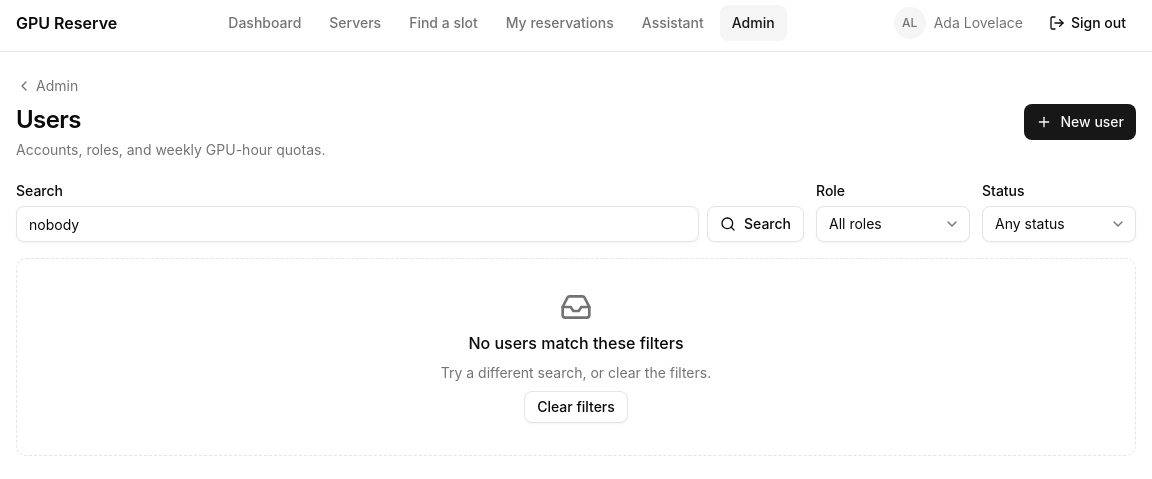
Test: user list › clears filters from the empty state
Expected: the text "No users match these filters" is shown, [468,331,684,355]
Expected: the search field labelled "Search" holds "nobody", [16,206,699,242]
Click the button "Clear filters" at (576, 407), box [524,391,628,423]
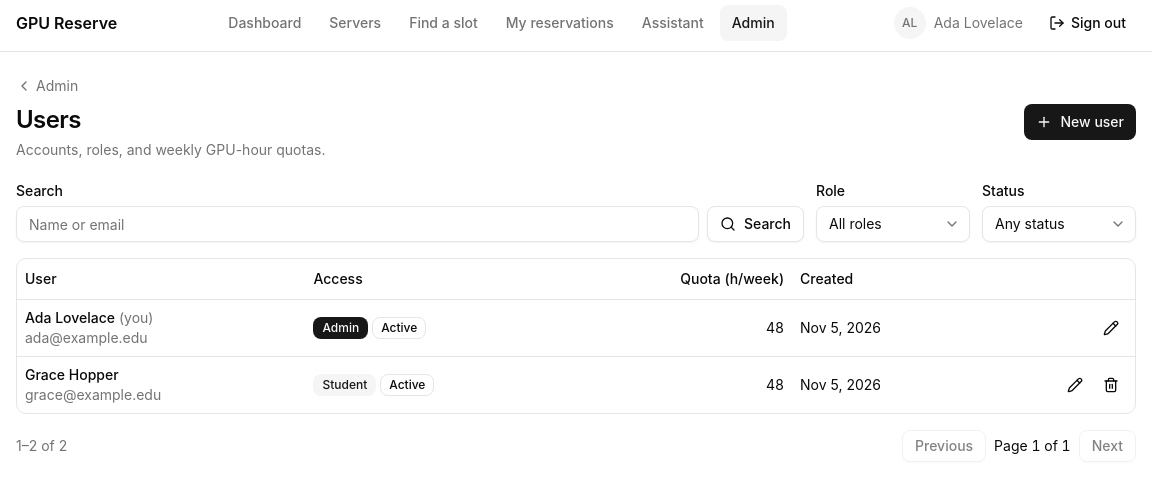
Now the text "Grace Hopper" is shown, box [25,366,119,382]
Now the search field labelled "Search" is empty, box [16,206,699,242]
